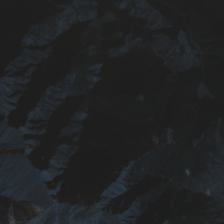landslides: (33, 107, 43, 117)
